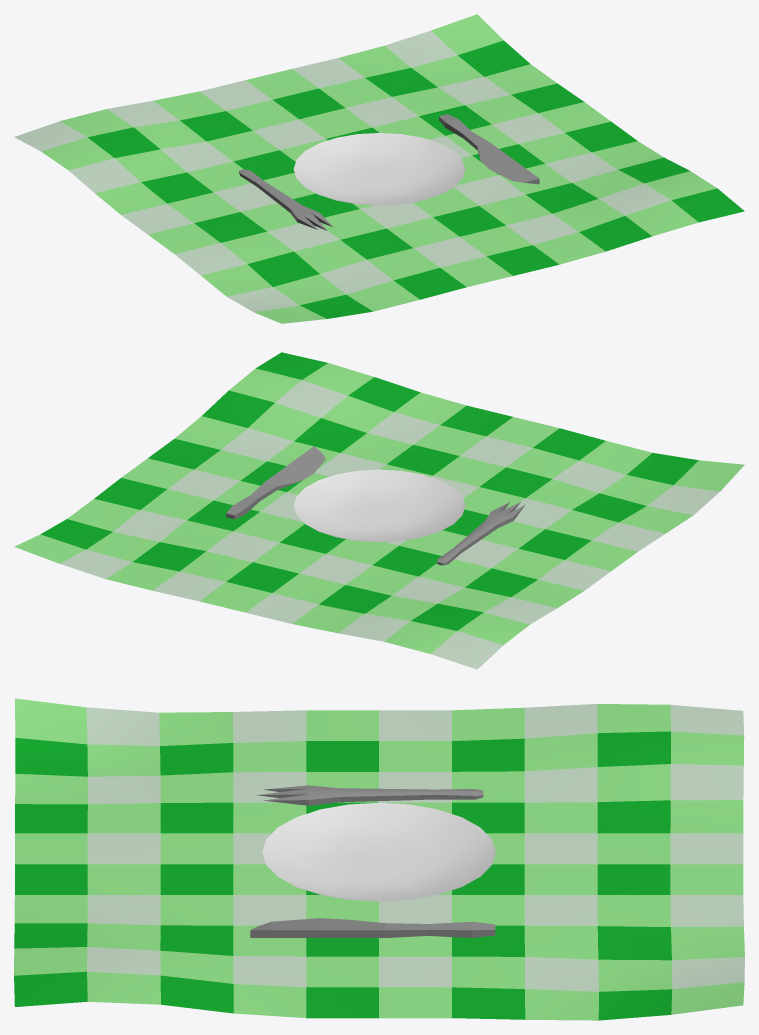
The model's file is 001_Picnic_Green_003.fbx.
3 views of the same model, one above another, from view 1: azimuth 30°, elevation 25°; view 2: azimuth 150°, elevation 25°; view 3: azimuth 270°, elevation 25° (orthographic). The views are drawn at different scales.
Parts seen in each view (by area): view 1: pDisc2; view 2: pDisc2; view 3: pDisc2.
Part boxes in pixels (bbox=[...]): pDisc2: bbox=[14, 14, 744, 323]; pDisc2: bbox=[14, 352, 744, 669]; pDisc2: bbox=[14, 698, 744, 1020].
Bounding box in the file's own units: 512 × 16.98 × 511.
